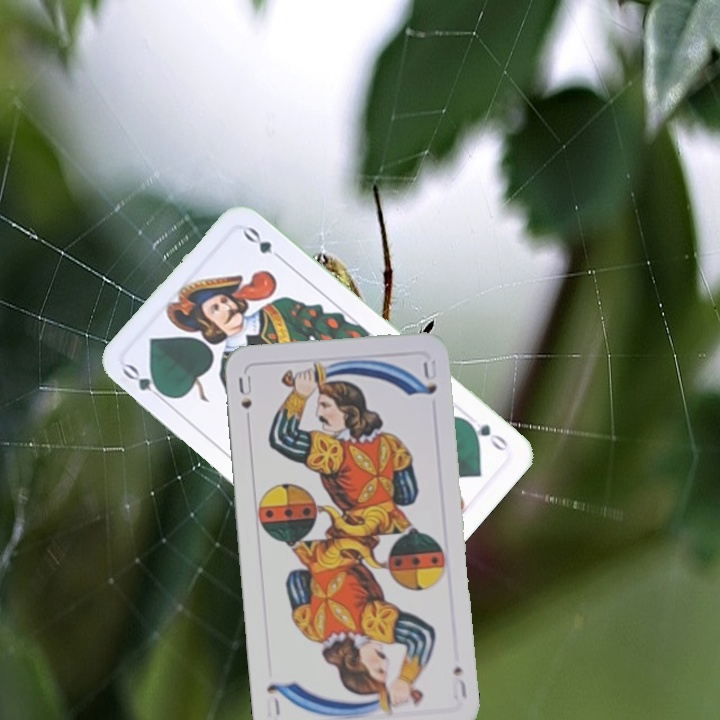GO: (118, 360, 172, 406), (459, 414, 511, 454)
SU: (234, 372, 255, 411), (449, 662, 470, 701)
